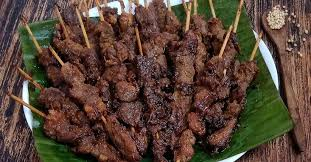sate: (12, 1, 258, 162)
